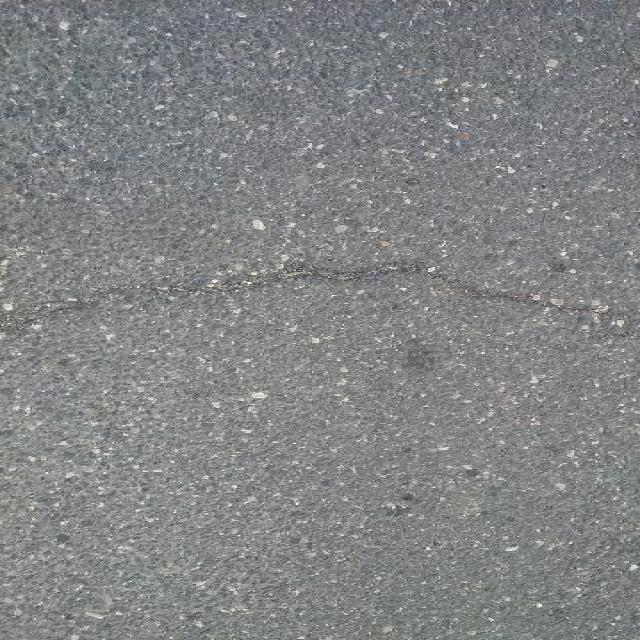Crack: (0, 244, 640, 341)
